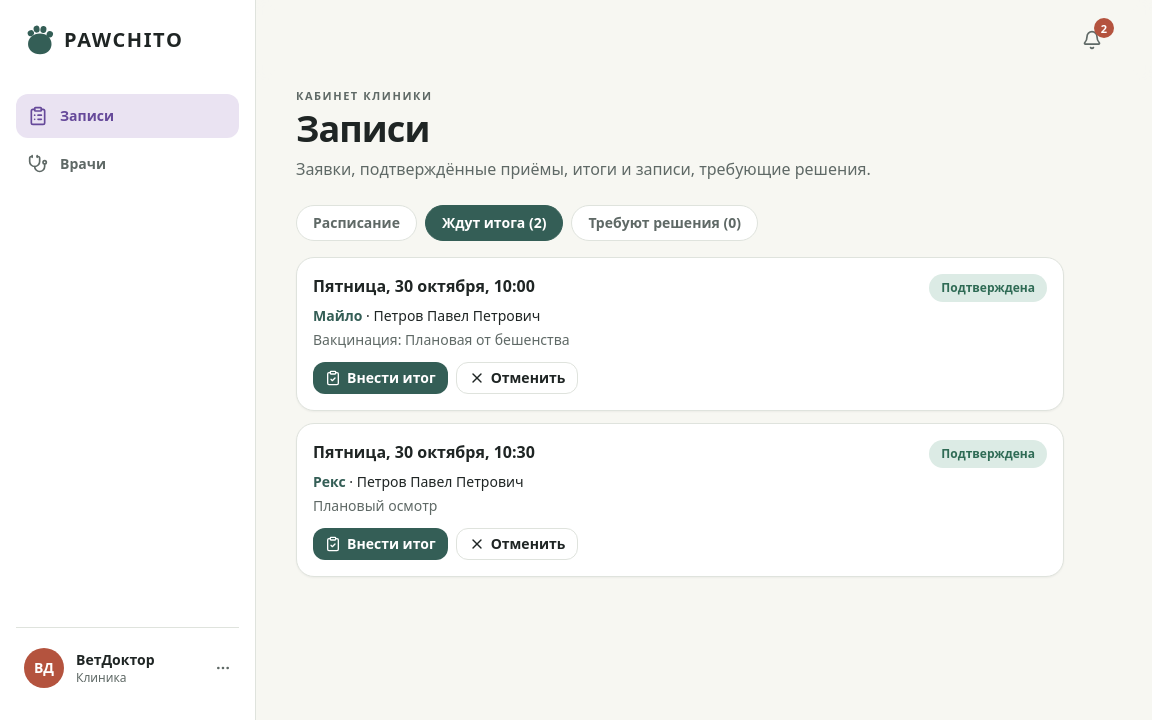
Test: форма итога приёма › без заключения и статуса — ошибки у полей, фокус на заключении, запроса нет
The image size is (1152, 720).
Click the button named "Внести итог, Майло, пятница, 30 октября, 10:00" at (380, 378), box [313,362,448,394]
(page scrolled)
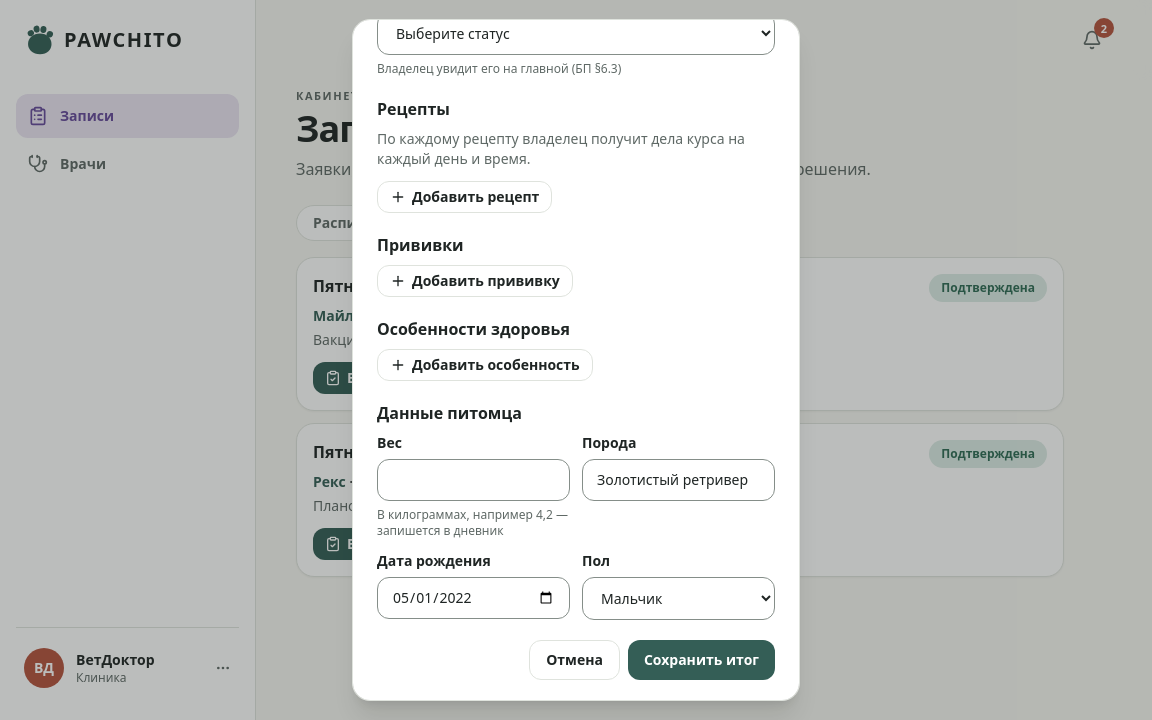
Click the button "Сохранить итог" at (701, 660), box [628,640,775,680]
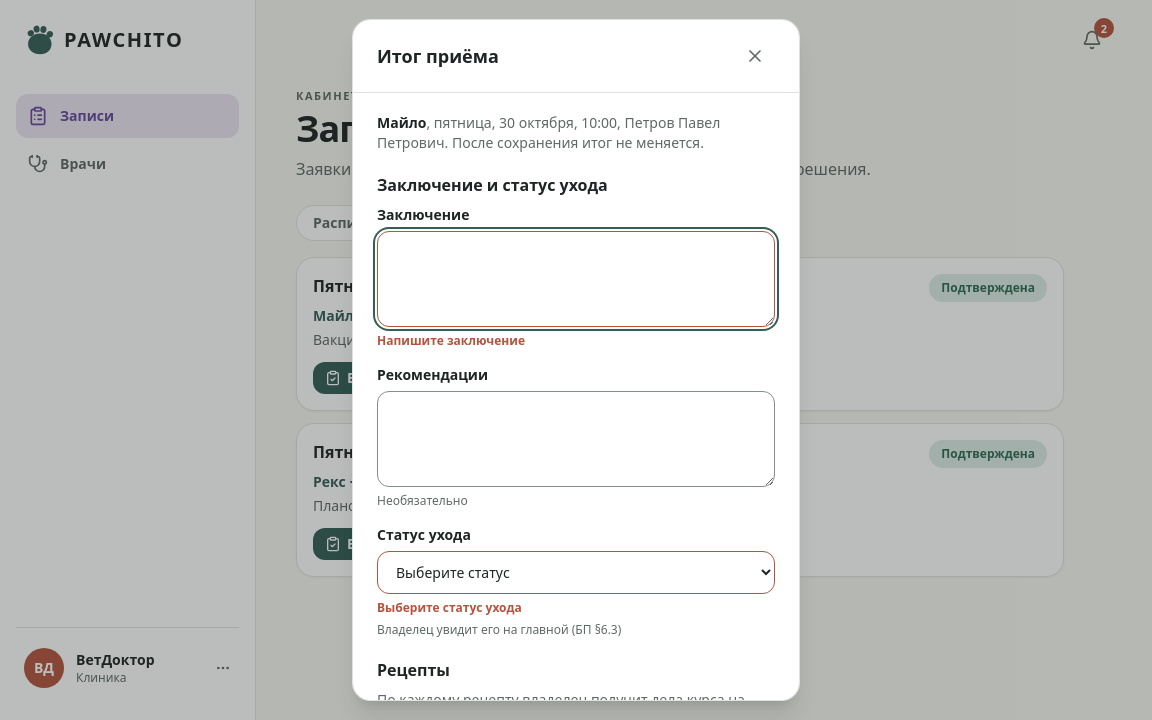
Check: the text "Напишите заключение" is shown, box [377,332,525,349]
Check: the text "Выберите статус ухода" is shown, box [377,599,522,616]
